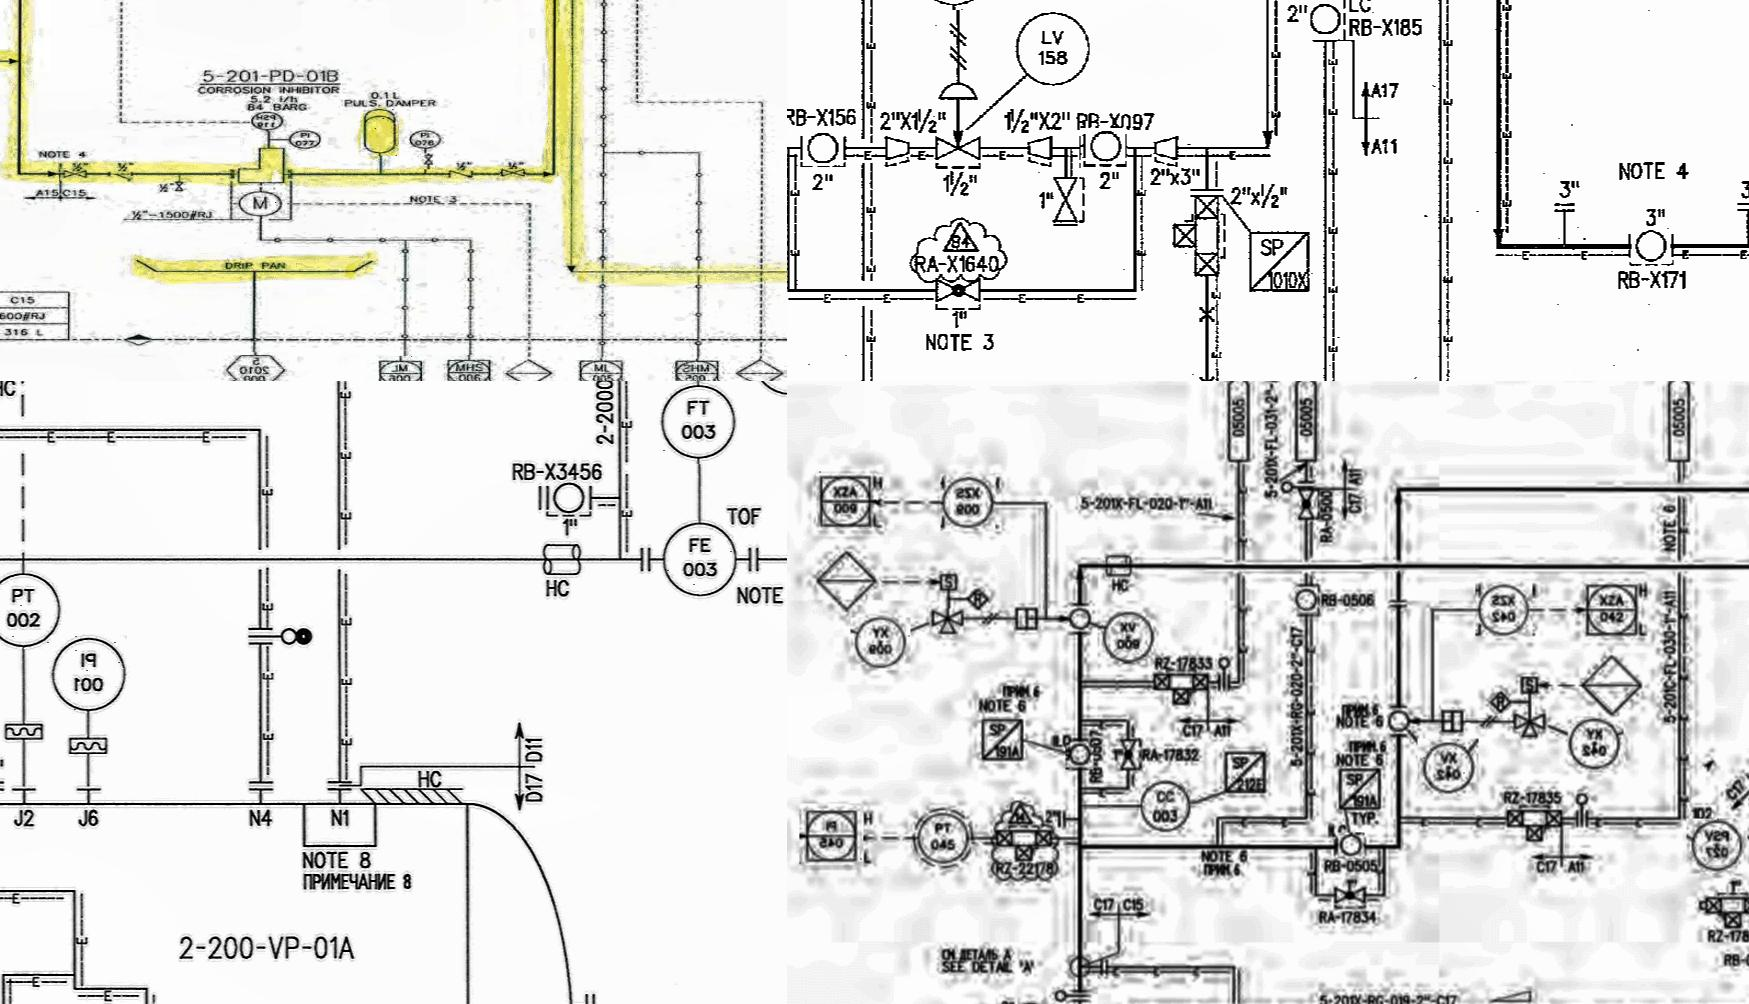2 WAY VALVE: (1166, 191, 1225, 282), (989, 823, 1059, 866), (1504, 800, 1570, 844), (1148, 667, 1214, 709), (1693, 894, 1749, 931)
3 WAY GENERAL VALVE: (1509, 710, 1550, 743), (930, 608, 969, 637)
BLIND SPADE OPEN: (1052, 984, 1099, 1004), (1213, 655, 1236, 694), (1572, 788, 1594, 829)
CONCENTRIC REDUCER: (1025, 131, 1059, 167), (881, 135, 913, 165), (1152, 135, 1183, 165)
DCS ACCESSIBLE: (799, 803, 862, 869), (1578, 576, 1642, 643), (814, 470, 877, 533), (377, 355, 429, 381), (575, 357, 627, 381), (446, 355, 493, 381), (671, 358, 722, 381)
DIAPHRAGM ACTUATED VALVE: (929, 80, 980, 169)
DIAPHRAGM SEAL: (0, 719, 47, 748), (62, 733, 113, 759)
DRUM AND PRESSURE VESSEL: (362, 108, 401, 156)
DUPLEX RECEPTACLE: (539, 536, 586, 579), (1102, 548, 1139, 582)
END FLANGED: (240, 773, 283, 796), (1386, 590, 1413, 612), (745, 544, 762, 578), (1540, 197, 1584, 209), (1094, 954, 1114, 980), (1725, 196, 1749, 213)
FIELD INSTRUMENT: (653, 382, 742, 465), (1014, 6, 1092, 91), (659, 519, 738, 599), (50, 635, 126, 710), (906, 799, 979, 873), (0, 569, 60, 649), (1417, 739, 1478, 797), (1687, 819, 1749, 875), (1475, 579, 1534, 637), (1568, 717, 1625, 772), (941, 473, 995, 532), (850, 617, 911, 670), (1139, 778, 1194, 833), (1102, 608, 1154, 663), (800, 129, 850, 171), (1080, 127, 1128, 171), (545, 476, 591, 519), (1630, 227, 1677, 267), (234, 186, 289, 219), (1305, 0, 1344, 40), (1383, 706, 1411, 735), (408, 129, 444, 151), (1336, 833, 1366, 860), (1065, 742, 1096, 769), (289, 129, 326, 150), (1294, 584, 1318, 614), (1069, 605, 1093, 635), (252, 112, 286, 132), (1068, 956, 1096, 979)
GATE VALVE: (929, 268, 987, 312), (1045, 178, 1090, 222), (60, 169, 95, 181), (168, 179, 190, 197), (501, 168, 527, 179), (419, 154, 435, 171)
GLOBE VALVE: (1330, 882, 1371, 906), (1120, 734, 1142, 773), (1297, 482, 1319, 522)
HARDWIRED INTERLOCK FIELD: (1487, 686, 1521, 713), (966, 587, 991, 610)
HARDWIRED INTERLOCK PRIMARY.: (807, 551, 881, 610), (1580, 657, 1646, 715), (732, 358, 786, 381), (505, 358, 553, 381)
NO ACCESS INDICATOR: (221, 353, 292, 381)
REVISION TRIANGLE: (944, 215, 979, 261), (1009, 799, 1035, 821)
SPECIAL PIPING ITEM: (1244, 227, 1315, 301), (973, 711, 1031, 765), (1218, 745, 1273, 796), (1335, 765, 1386, 814)
SPECTACLE BLIND OPEN: (246, 622, 326, 651)
SPEED FLOW METER: (1516, 669, 1550, 699), (935, 566, 963, 596)
